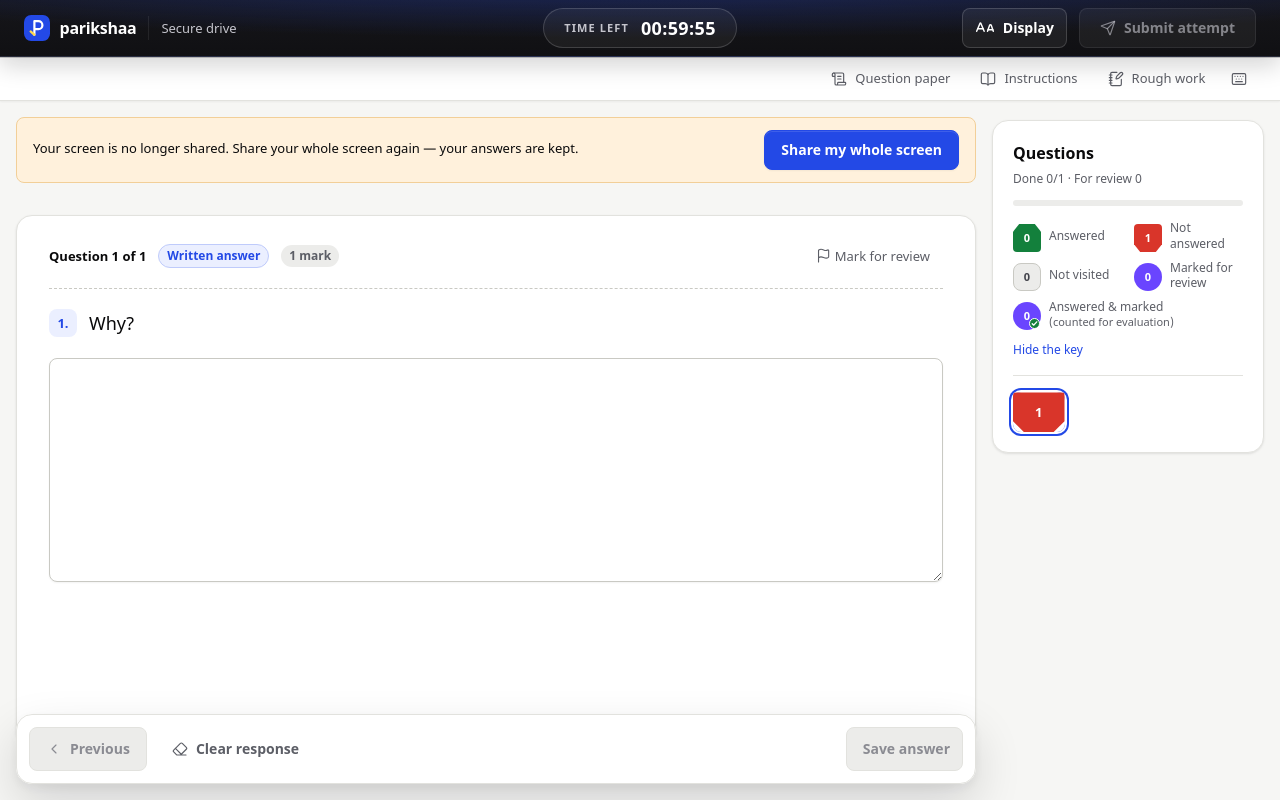
during a secure test › says when sharing stops, reports it, and shares again from the page
Expected: the heading "1. Why?" is shown, [49,309,134,337]
Expected: the message shows "Your screen is no longer shared", [33,141,578,158]
Click the button "Share my whole screen". click: (862, 150)
box: [764,130,959,170]
Wait 5000 ms
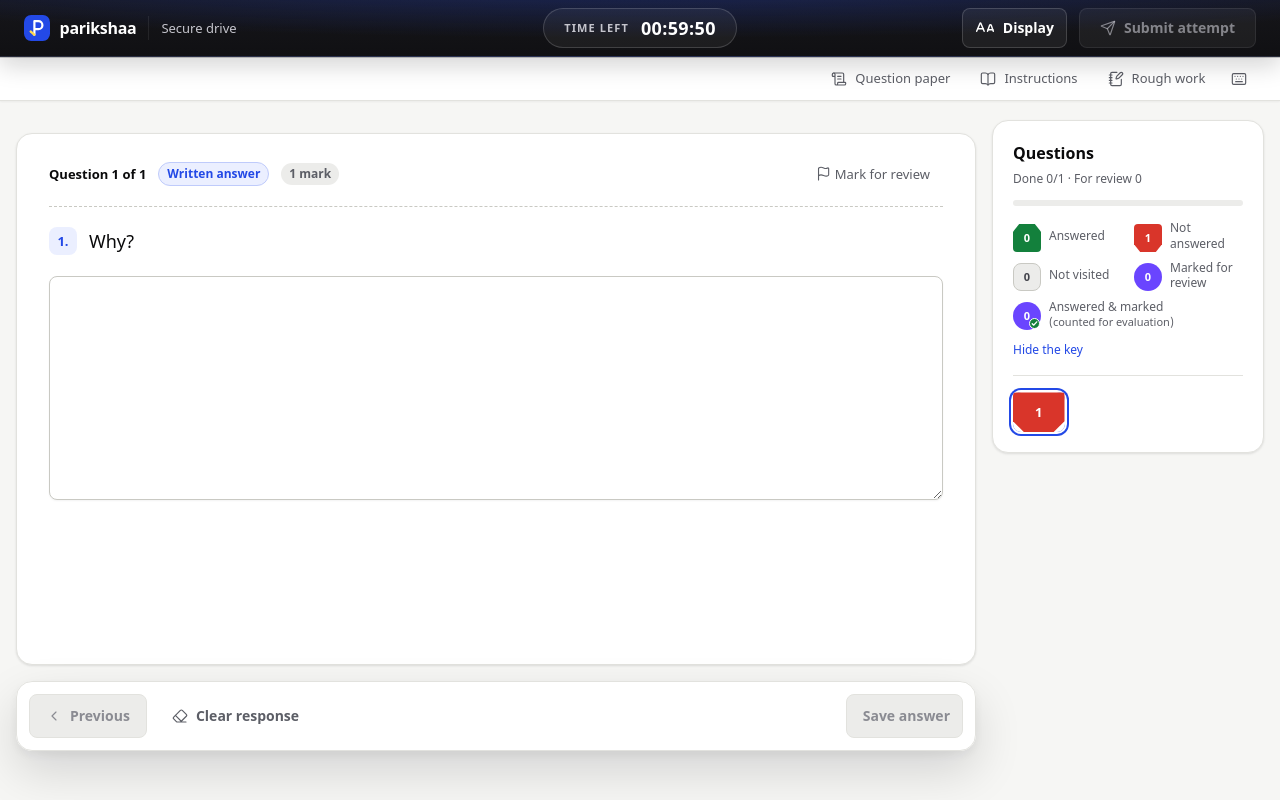
Expected: the text "Your screen is no longer shared" is gone
